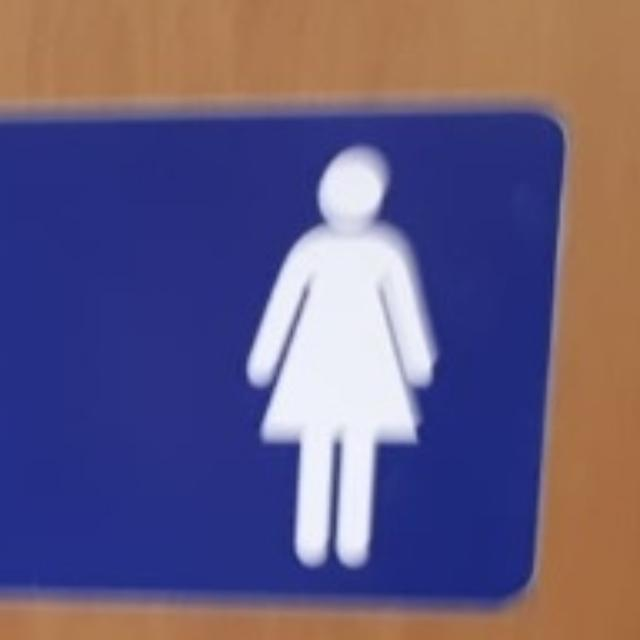wc nu: (0, 107, 563, 607)
